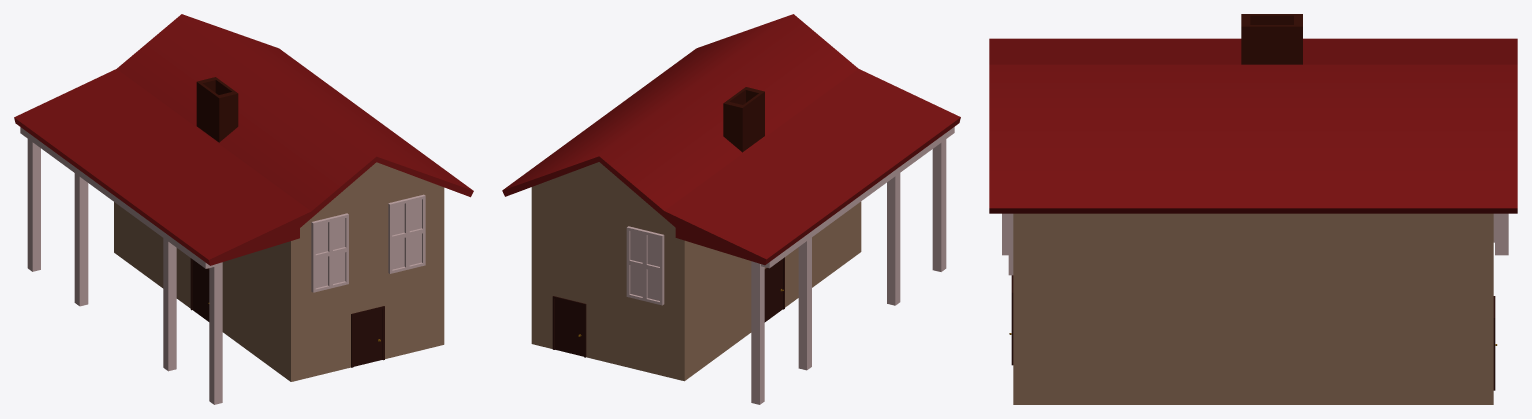
File: MSH_Casa.FBX
The picture shows the model from 3 angles, left to right: view 1: azimuth 30°, elevation 25°; view 2: azimuth 150°, elevation 25°; view 3: azimuth 270°, elevation 25°; orthographic projection. The views are drawn at different scales.
Visible parts, largest first — view 1: G_Casa; view 2: G_Casa; view 3: G_Casa.
Part boxes in pixels (bbox=[...]): G_Casa: bbox=[14, 14, 473, 404]; G_Casa: bbox=[502, 14, 960, 404]; G_Casa: bbox=[989, 14, 1517, 404].
Bounding box in the file's own units: 751 × 594 × 956.
